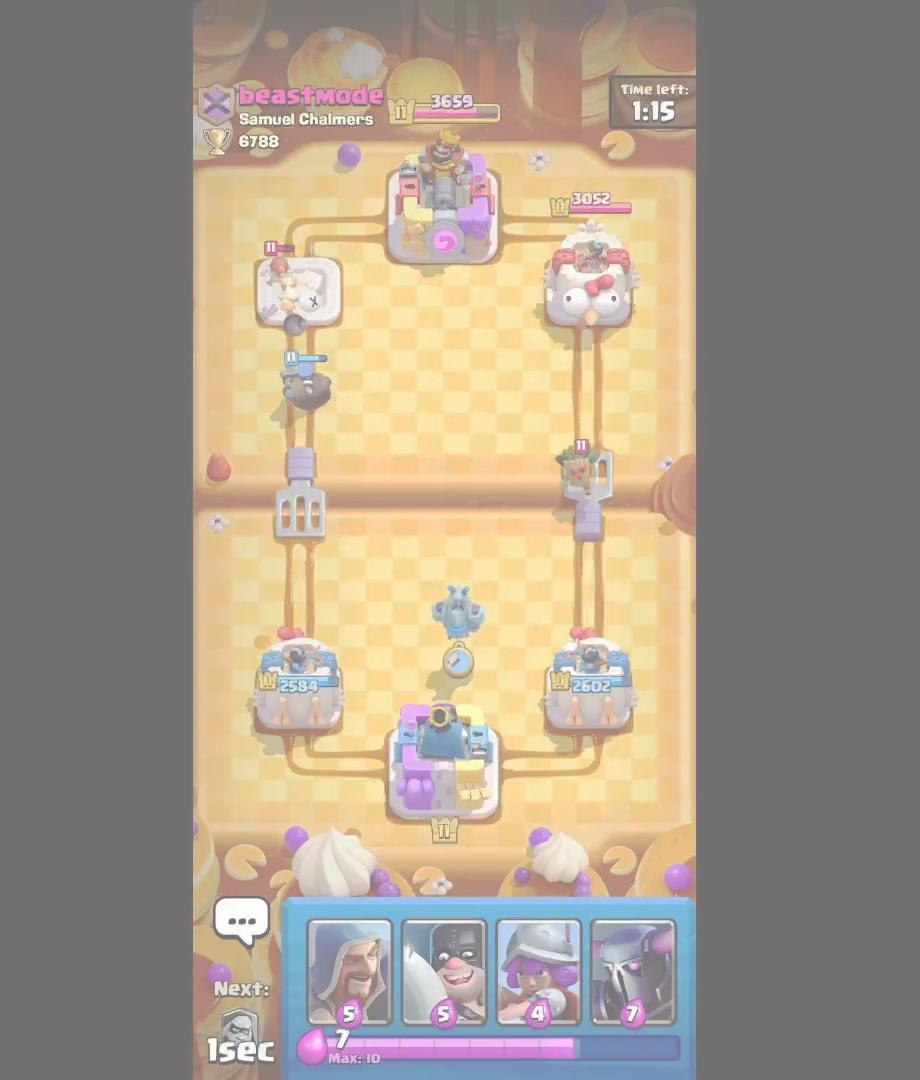Bomber: (253, 234, 307, 292)
Dart Goblin: (553, 435, 610, 495)
